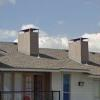Chimney: (12, 19, 46, 67)
